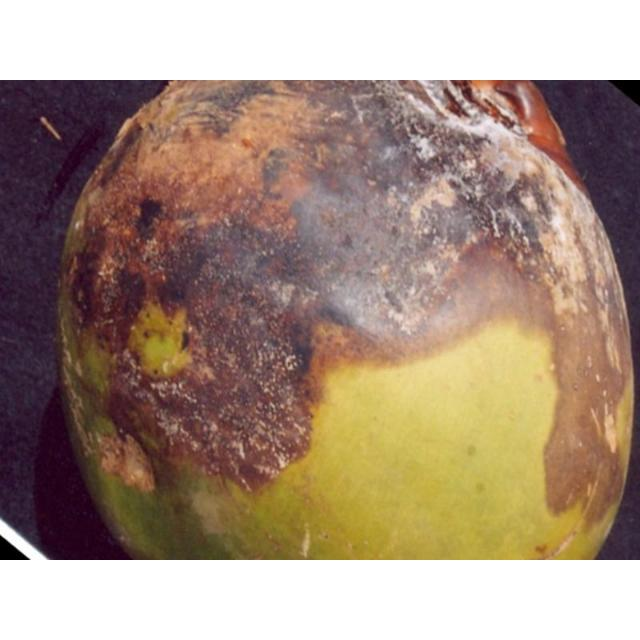damaged: (54, 80, 637, 559)
